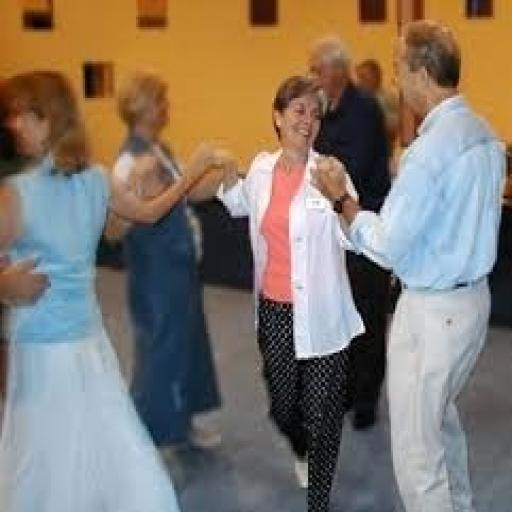dancing: (308, 17, 510, 510), (0, 42, 174, 512), (214, 71, 370, 510)
